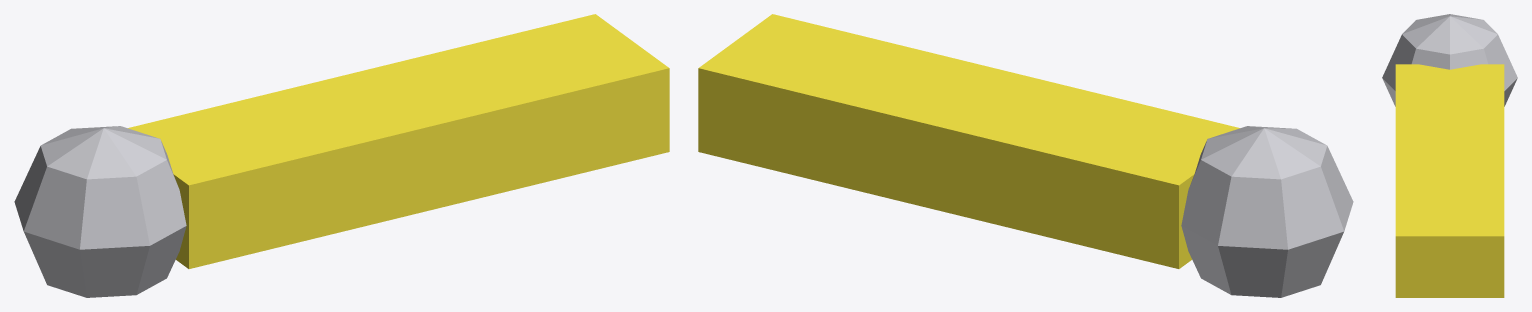
File: Nucleotide_G.fbx
The picture shows the model from 3 angles, left to right: view 1: azimuth 30°, elevation 25°; view 2: azimuth 150°, elevation 25°; view 3: azimuth 270°, elevation 25°; orthographic projection. The views are drawn at different scales.
Visible parts, largest first — view 1: Nucleotide_G; view 2: Nucleotide_G; view 3: Nucleotide_G.
Part boxes in pixels (left/top/right/bottom): Nucleotide_G: left=14, top=14, right=669, bottom=297; Nucleotide_G: left=698, top=14, right=1353, bottom=297; Nucleotide_G: left=1382, top=14, right=1517, bottom=297.
Size of the model in its own units: 0.038 by 0.01 by 0.01.
